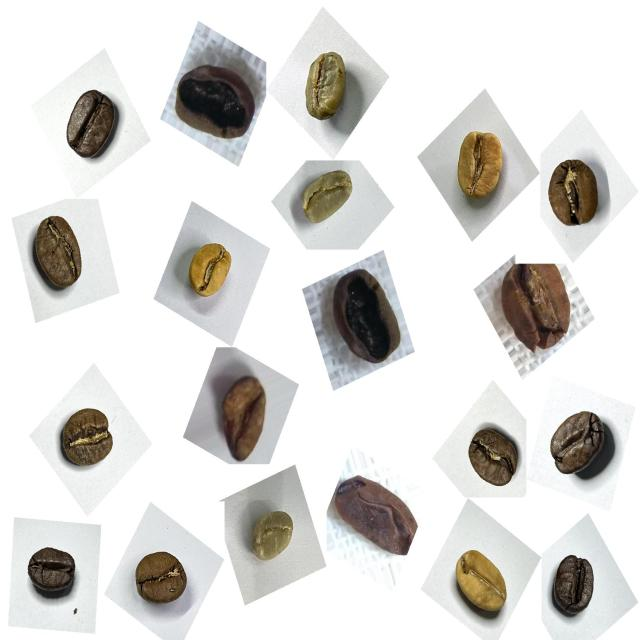bad: (318, 260, 409, 376), (493, 252, 583, 360), (332, 464, 426, 566), (170, 54, 262, 155), (210, 364, 281, 471)
dark: (542, 401, 619, 492), (54, 79, 128, 172), (544, 548, 607, 631), (17, 534, 84, 610)
green: (292, 42, 358, 134), (291, 160, 361, 237), (241, 502, 304, 576)
light: (445, 118, 514, 215), (448, 540, 519, 627), (179, 230, 243, 308)
medium: (22, 204, 96, 303), (539, 148, 612, 238), (53, 398, 124, 479), (128, 542, 197, 619), (458, 421, 526, 499)
